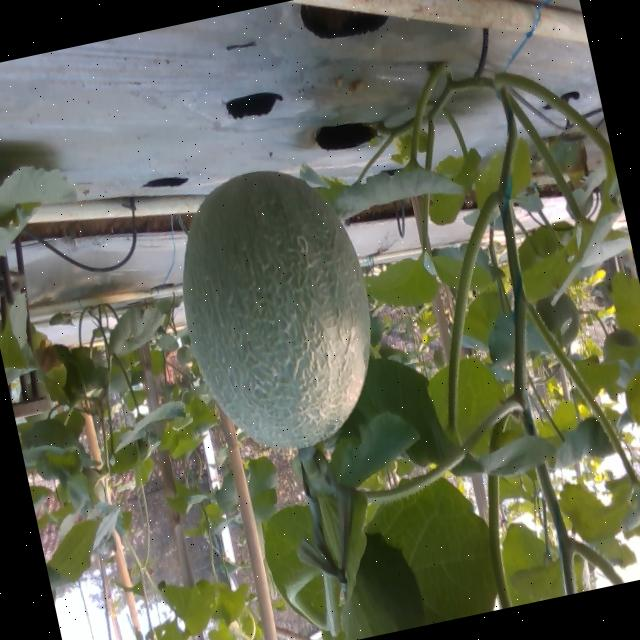melon: (181, 170, 367, 446)
